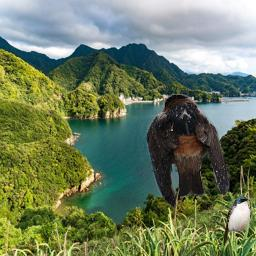Swallow: (146, 94, 230, 209), (223, 194, 253, 246)
